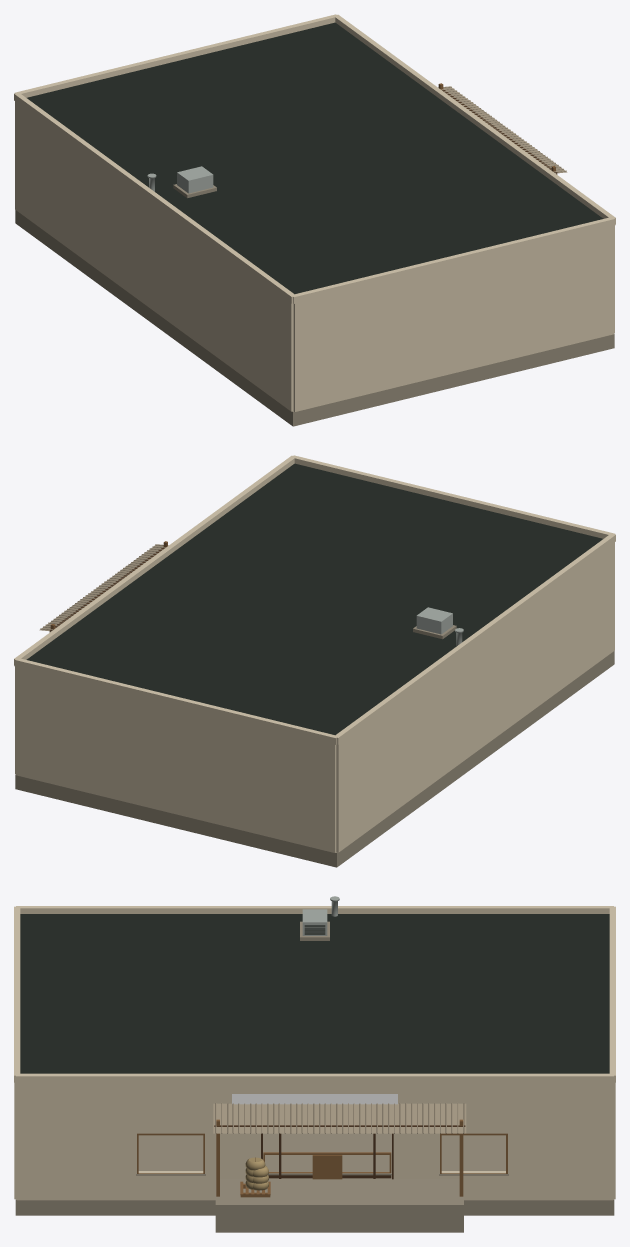
Rendered from SM_Town_Feed_Shell.fbx.
3 renders of one model, top to bottom at view 1: azimuth 30°, elevation 25°; view 2: azimuth 150°, elevation 25°; view 3: azimuth 270°, elevation 25°, orthographic. The views are drawn at different scales.
Visible parts, largest first — view 1: SM_Town_Feed_Shell; view 2: SM_Town_Feed_Shell; view 3: SM_Town_Feed_Shell.
Part boxes in pixels (x1=…): SM_Town_Feed_Shell: x1=14, y1=14, x2=615, y2=426; SM_Town_Feed_Shell: x1=14, y1=455, x2=615, y2=867; SM_Town_Feed_Shell: x1=14, y1=896, x2=615, y2=1232.
Bounding box in the file's own units: 18.73 × 24.25 × 6.77.
